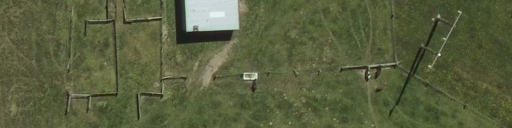DT: (396, 8, 478, 102)
